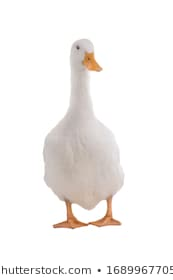duck: (31, 32, 141, 235)
